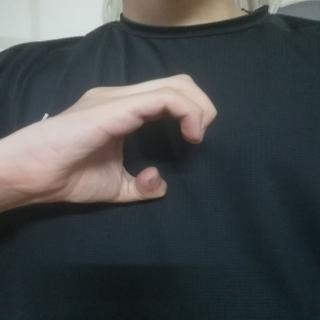JEEM: (2, 61, 234, 222)
